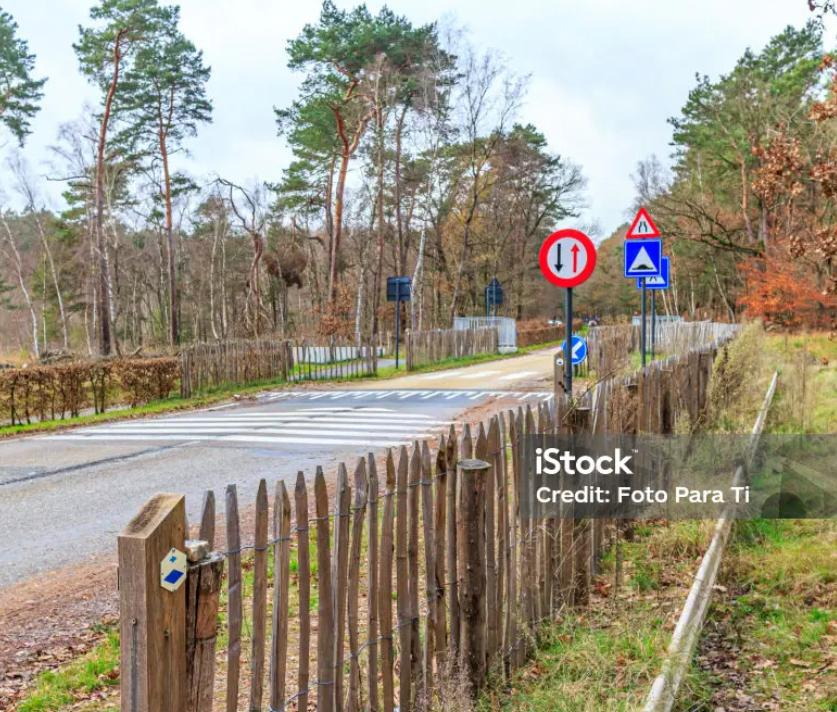obstructed_road_sign: (637, 257, 669, 289), (562, 335, 588, 365)
road_sign: (539, 229, 596, 287), (624, 239, 661, 277), (625, 207, 660, 238)
